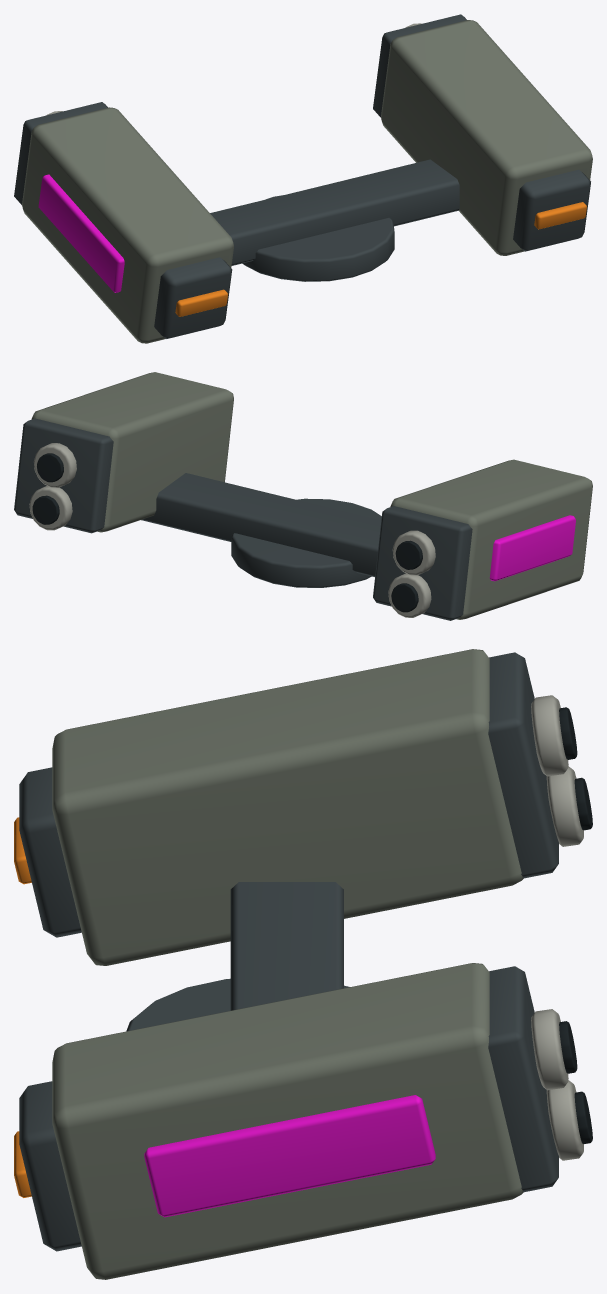
The model's file is mixed-tank-missiles.glb.
3 views of the same model, one above another, from view 1: azimuth 30°, elevation 25°; view 2: azimuth 150°, elevation 25°; view 3: azimuth 270°, elevation 25° (orthographic). The views are drawn at different scales.
Parts seen in each view (by area): view 1: Missiles; view 2: Missiles; view 3: Missiles.
Boxes of the visible parts, x1,y1,x2,y2 form: Missiles: (14,14,592,343); Missiles: (14,372,592,620); Missiles: (14,649,592,1279).
Bounding box in the file's own units: 1.36 × 0.3993 × 0.8265.
